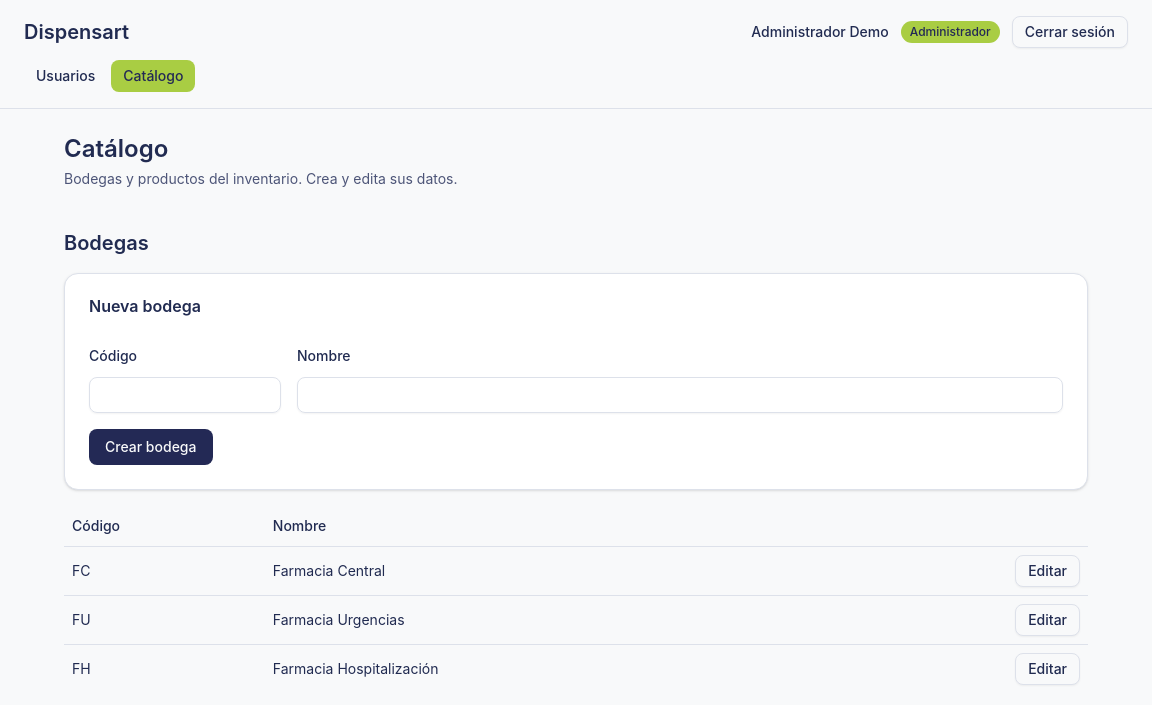
it: Alta de bodega › Código de bodega en uso: mensaje junto a "Código", formulario conservado y lista sin filas nuevas
This screenshot has width=1152, height=705.
Expected: the table named "Bodegas registradas" is shown, x1=64 y1=506 x2=1088 y2=693
Type "FC" into the field labelled "Código" at (185, 395), box x1=89 y1=377 x2=281 y2=413
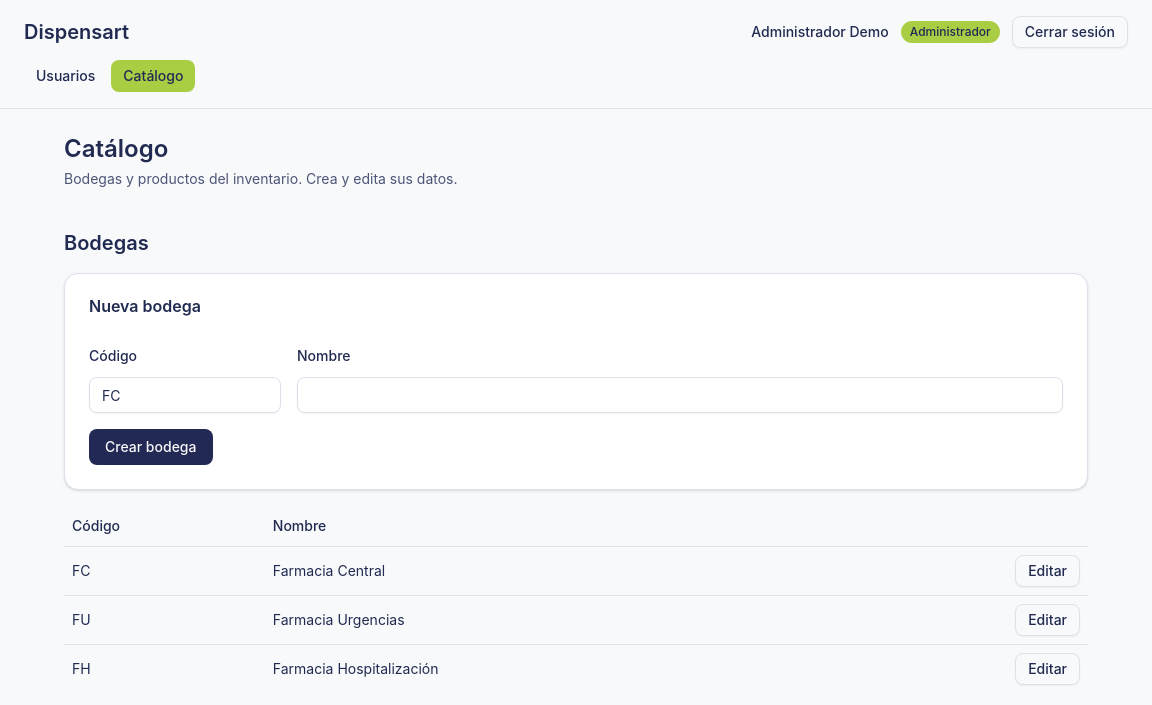
Type "Farmacia Consulta Externa" into the field labelled "Nombre" at (680, 395), box x1=297 y1=377 x2=1063 y2=413
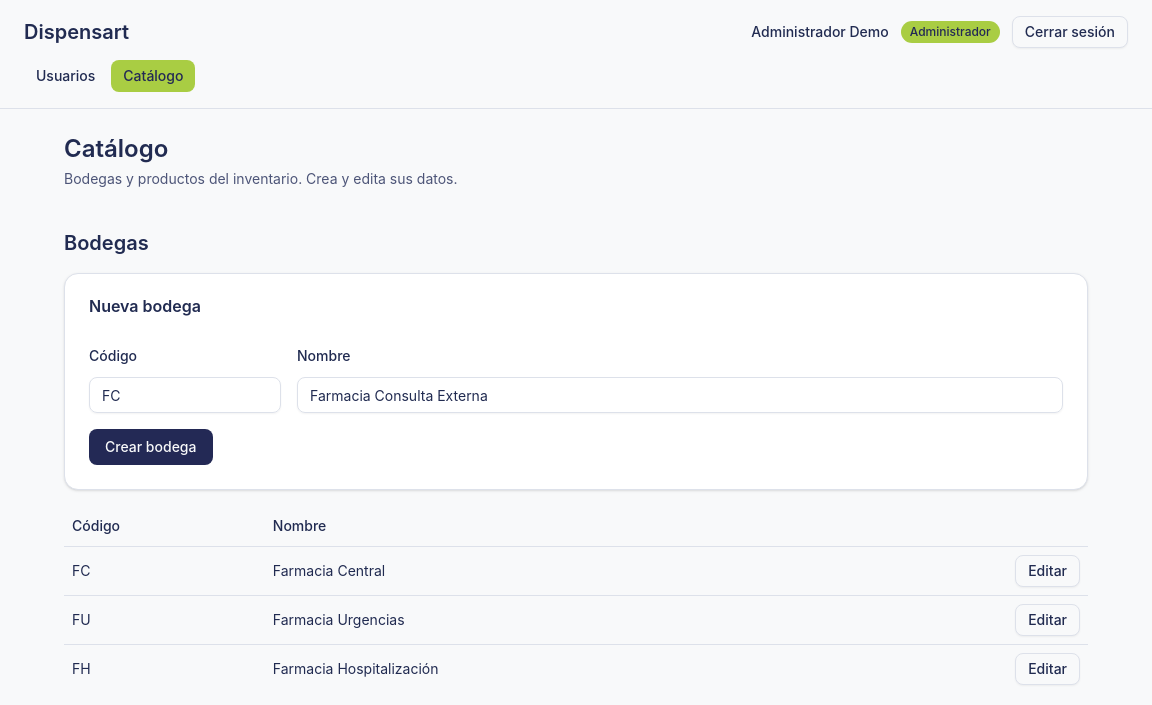
Click the button "Crear bodega" at (151, 447), box x1=89 y1=429 x2=212 y2=465
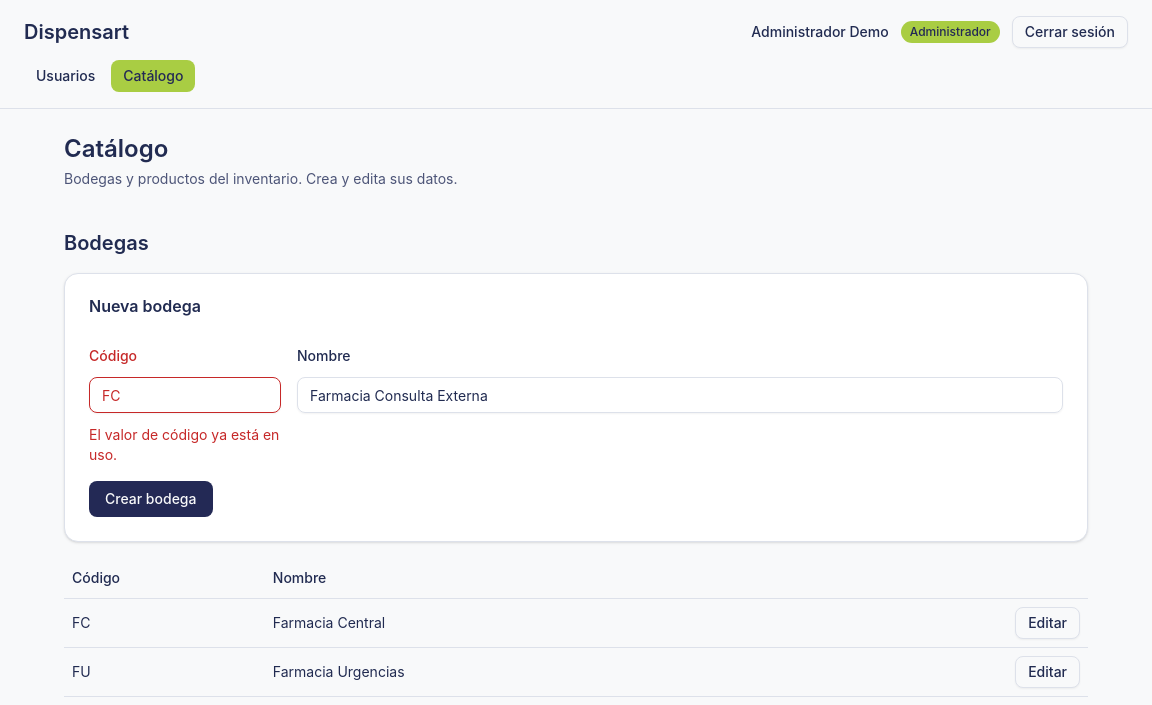
Expected: the text "El valor de código ya está en uso." is shown, x1=89 y1=425 x2=281 y2=465
